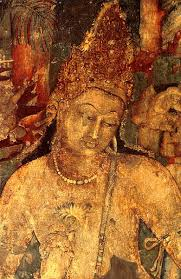Bodhisatva Padampani: (6, 7, 176, 274)
